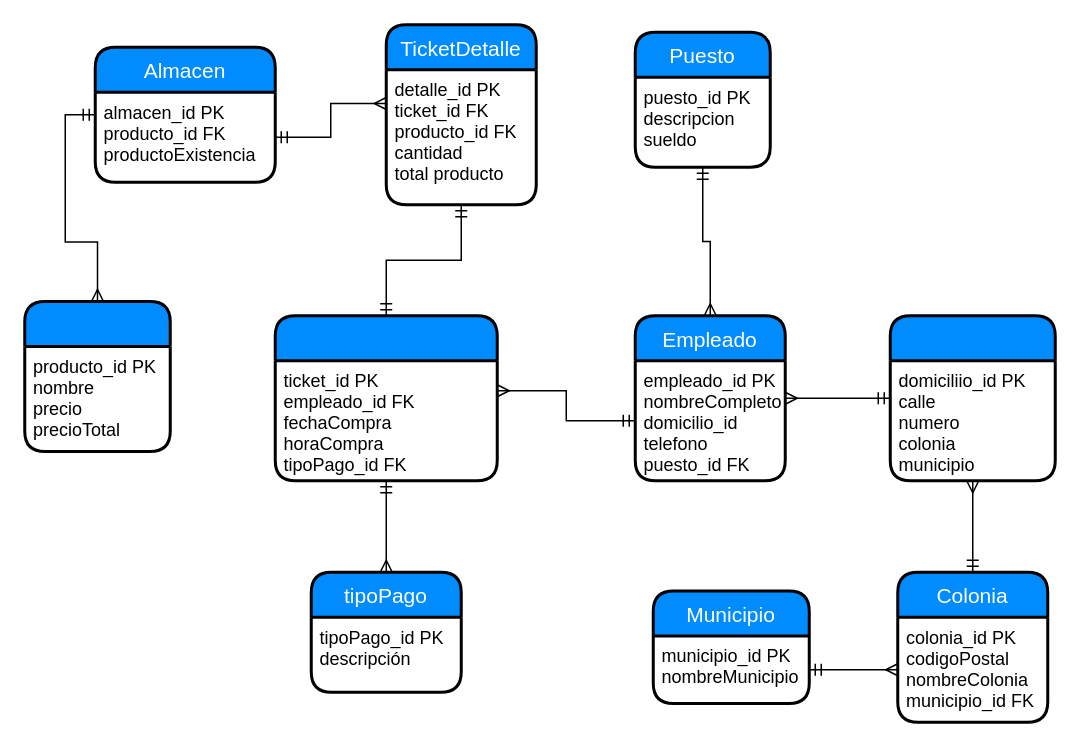
Some shapes in this 1080 by 747 pixel diagram are drawn without their labels. The box of each missing label's shape, as (x1, y1, x2, y2) in pixels:
Domicilio: (888, 314, 1056, 482)
Productos: (22, 299, 171, 452)
TicketEncabezado: (273, 314, 498, 482)
